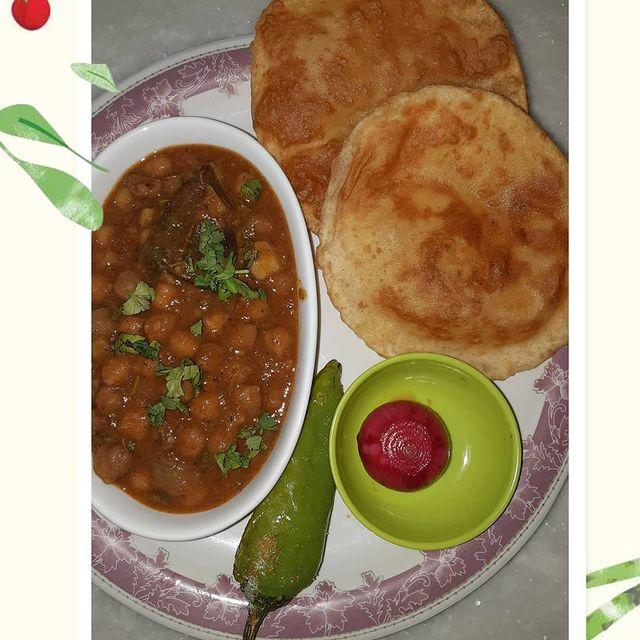Chole: (98, 180, 268, 501)
